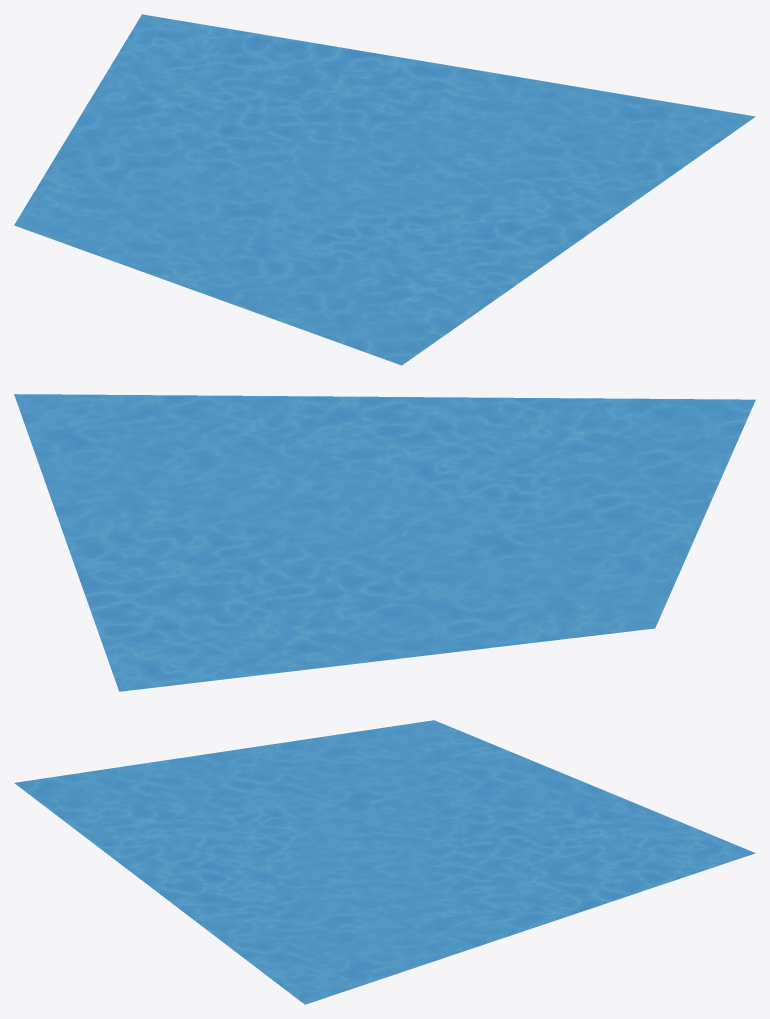
Rendered from zhucheng_gongyuan05shui.FBX.
3 renders of one model, top to bottom at view 1: azimuth 30°, elevation 25°; view 2: azimuth 150°, elevation 25°; view 3: azimuth 270°, elevation 25°, orthographic. The views are drawn at different scales.
Parts seen in each view (by area): view 1: zhucheng_gongyuan05shui; view 2: zhucheng_gongyuan05shui; view 3: zhucheng_gongyuan05shui.
Part boxes in pixels (box(x1,y1,x2,y2)): zhucheng_gongyuan05shui: box(14, 14, 755, 365); zhucheng_gongyuan05shui: box(14, 394, 755, 691); zhucheng_gongyuan05shui: box(14, 720, 755, 1004).
Size of the model in its own units: 1192 by 7.11e-14 by 1313.
